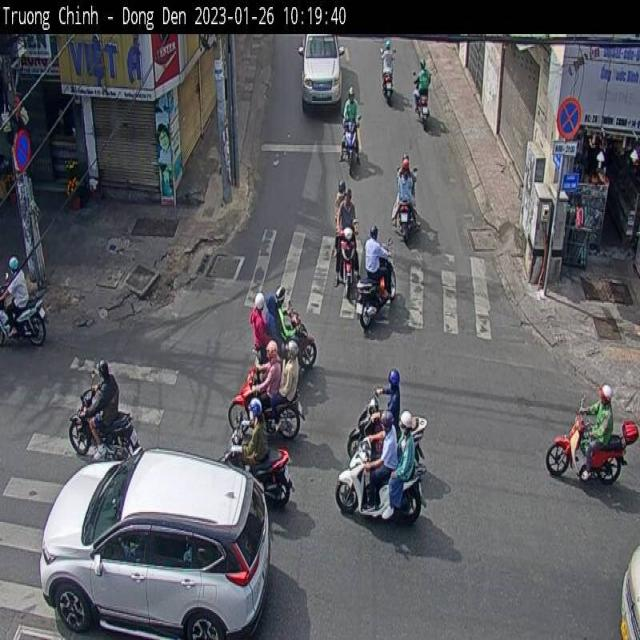with_helmet: (92, 348, 121, 396), (384, 360, 406, 399), (368, 212, 390, 251), (250, 282, 268, 324), (262, 333, 280, 371), (381, 413, 400, 447), (397, 148, 417, 179), (9, 246, 26, 276)
